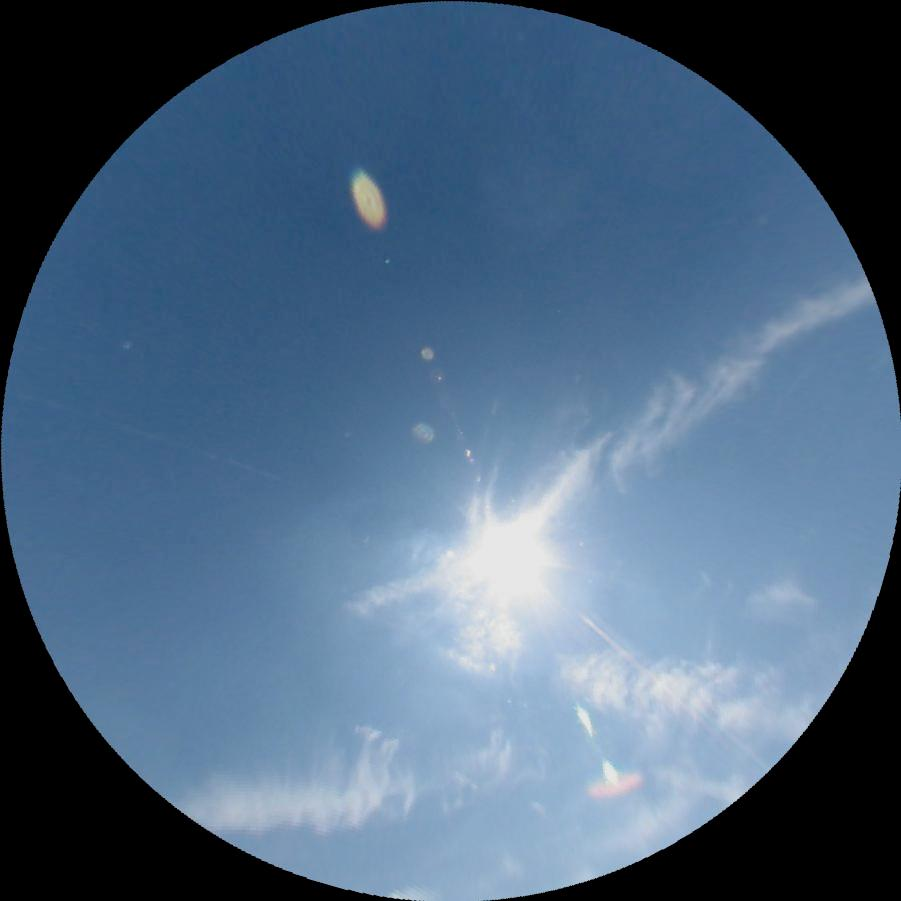contrail veryold: (341, 245, 889, 666)
parasite: (574, 608, 661, 686), (658, 684, 723, 739)
sun: (471, 516, 551, 596)
